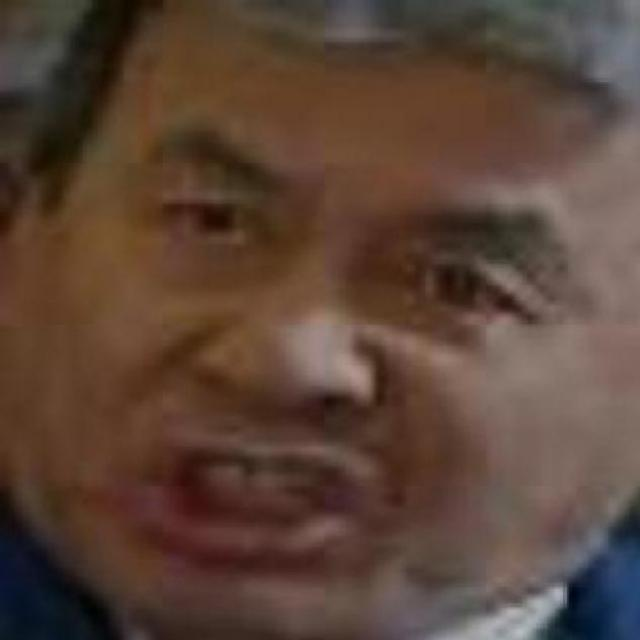Angry: (22, 66, 640, 640)
